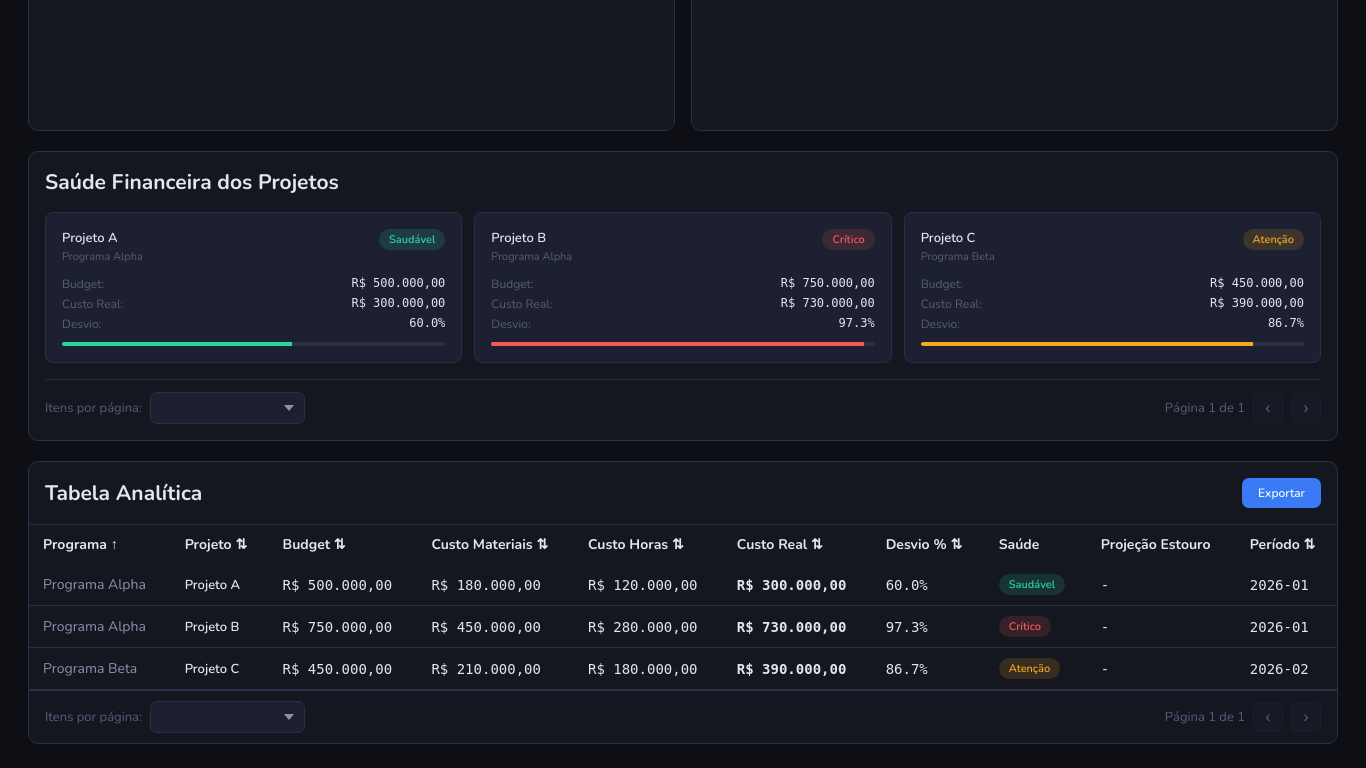
Test: OrcamentoSaudeFinanceira.vue › sorts by budget when clicking the header
(page scrolled)
Click the column heading with class "sort-col" showing "Budget ⇅" at coordinates (343, 544), box top-left (268, 525), bottom-right (417, 564)
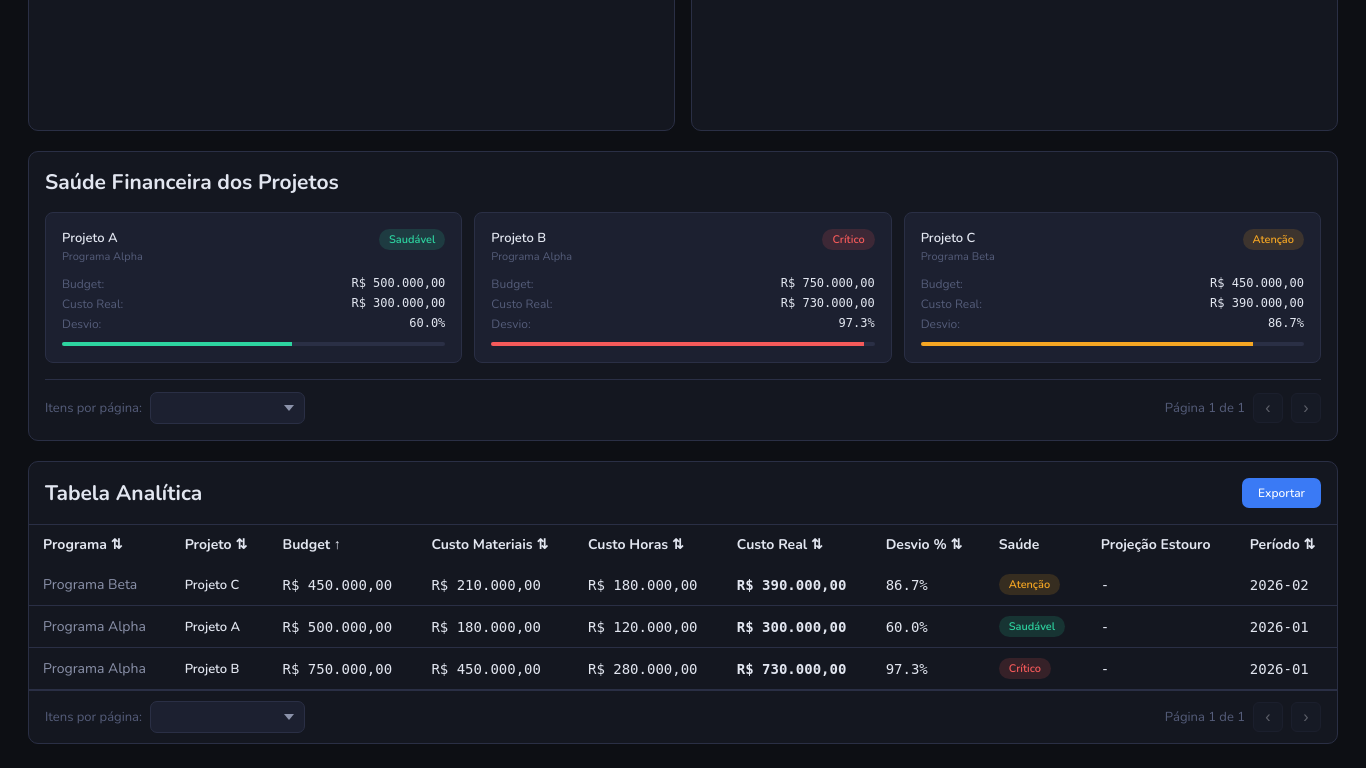
expect the column heading with class "sort-col" shows "↑": met, box top-left (282, 535), bottom-right (341, 554)
Click the column heading with class "sort-col" showing "Budget ↑" at coordinates (343, 544), box top-left (268, 525), bottom-right (417, 564)
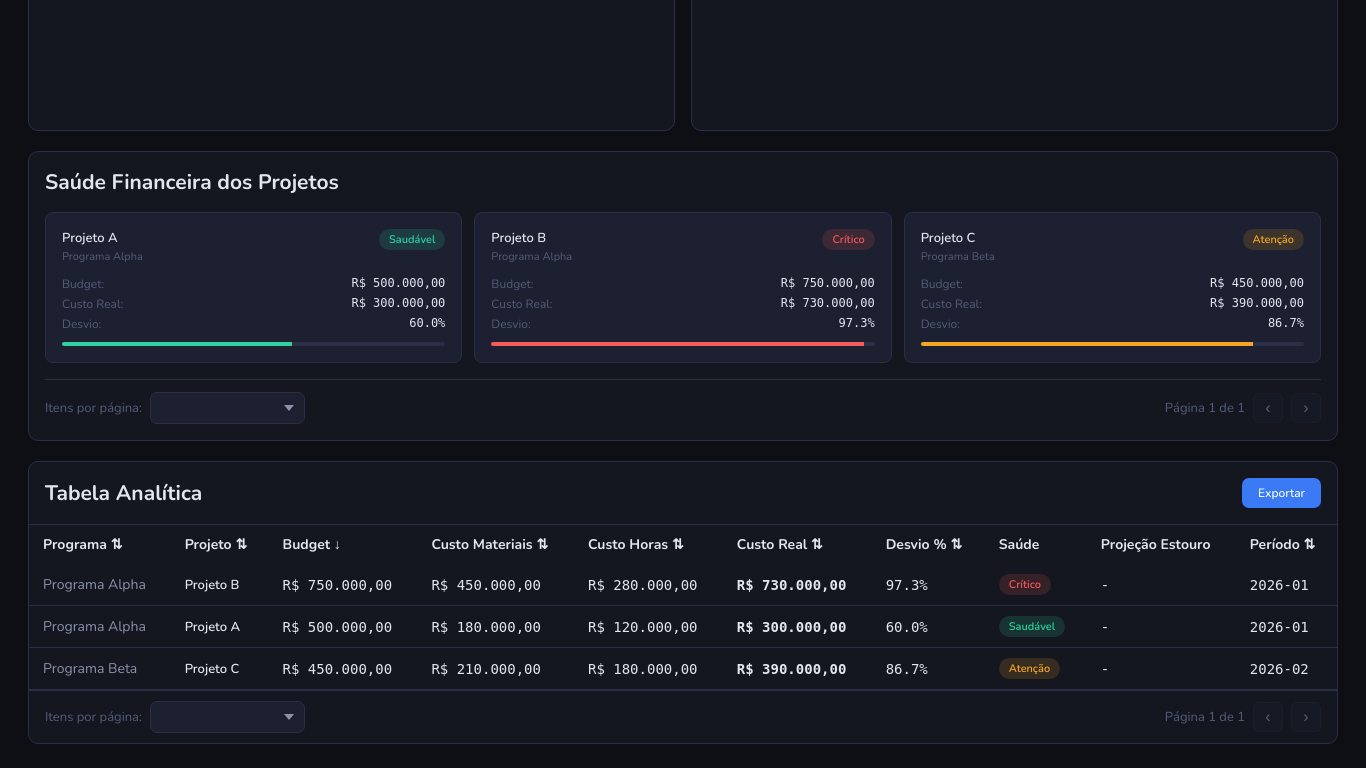
expect the column heading with class "sort-col" shows "↓": met, box top-left (282, 535), bottom-right (341, 554)
